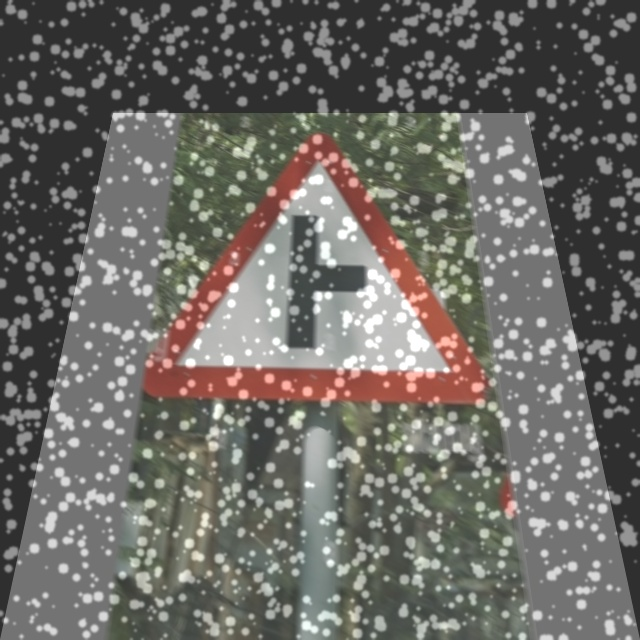Side_Road_Right: (170, 133, 480, 405)
